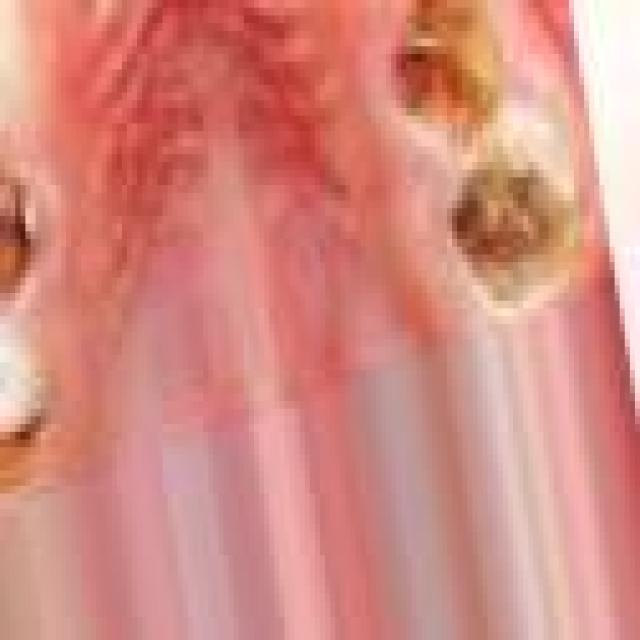caries: (431, 130, 578, 316), (383, 1, 520, 123), (0, 374, 66, 494), (0, 176, 41, 302)
